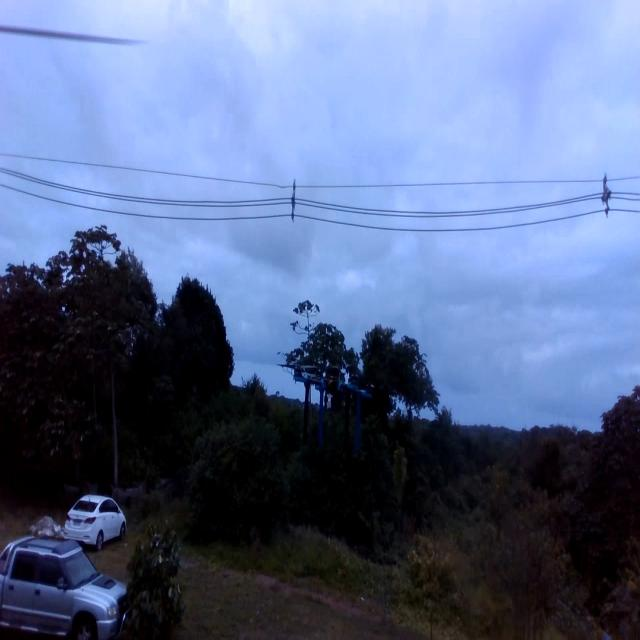-uav-: (289, 327, 371, 455)
